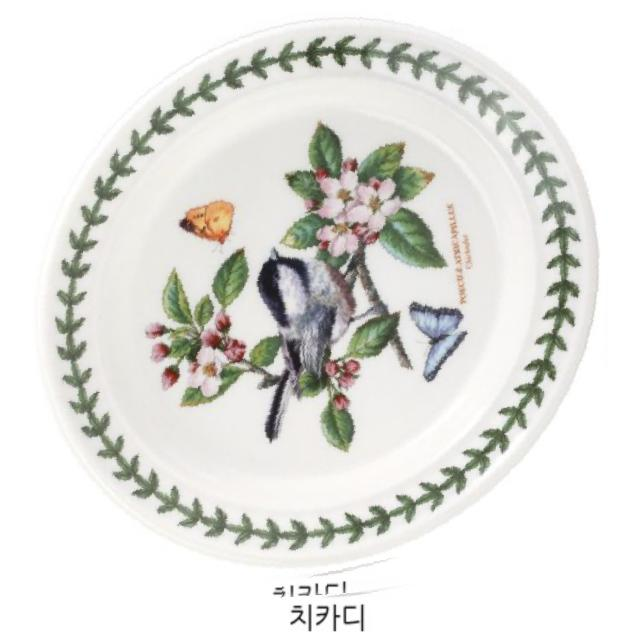recyclable: (22, 10, 627, 616)
